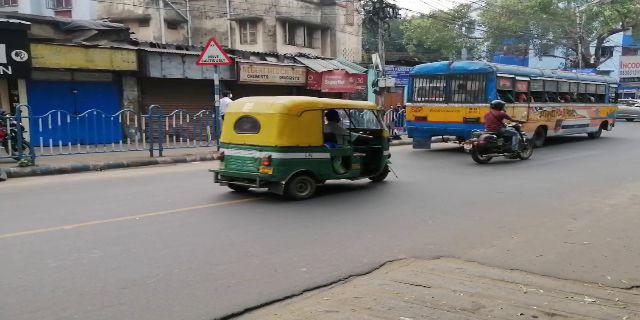Autorickshaw: (221, 96, 396, 194), (467, 101, 535, 160)
Bus: (403, 63, 620, 145)
